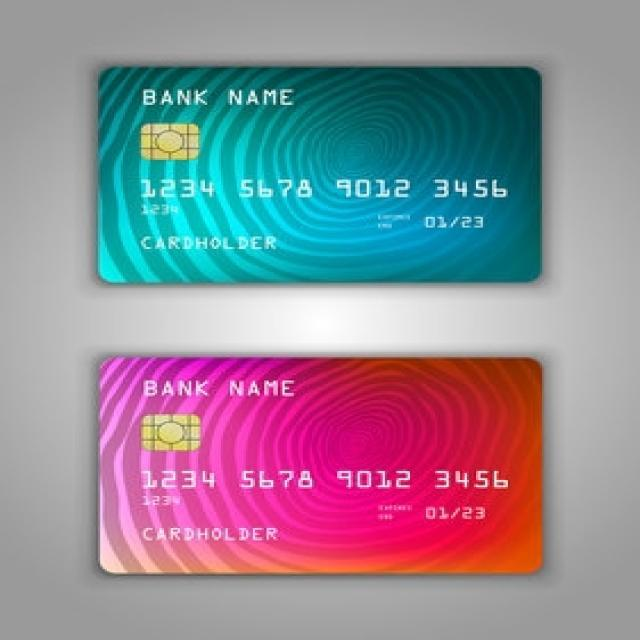payment_card: (94, 63, 544, 285), (96, 354, 544, 576)
